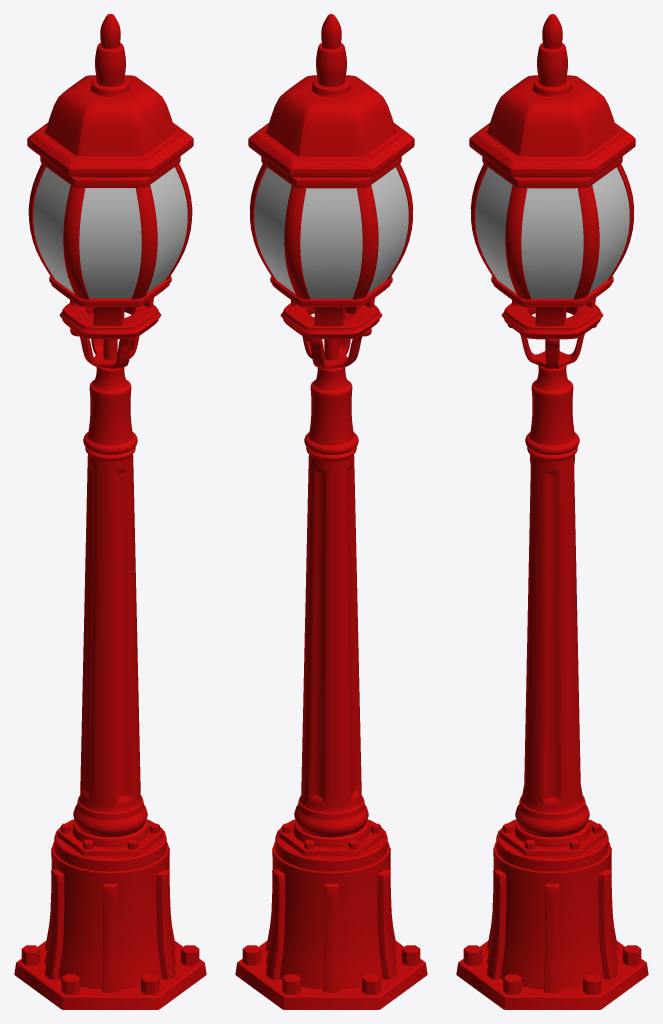
The model's file is street_lamp_02.obj.
3 views of the same model, side by side, from view 1: azimuth 30°, elevation 25°; view 2: azimuth 150°, elevation 25°; view 3: azimuth 270°, elevation 25° (orthographic).
Parts seen in each view (by area): view 1: street_lamp_01_Cylinder.001; view 2: street_lamp_01_Cylinder.001; view 3: street_lamp_01_Cylinder.001.
Part boxes in pixels (box(x1,y1,x2,y2)): street_lamp_01_Cylinder.001: box(14, 14, 206, 1009); street_lamp_01_Cylinder.001: box(235, 14, 427, 1009); street_lamp_01_Cylinder.001: box(456, 14, 648, 1009).
Bounding box in the file's own units: 0.5423 × 3.43 × 0.6228.
